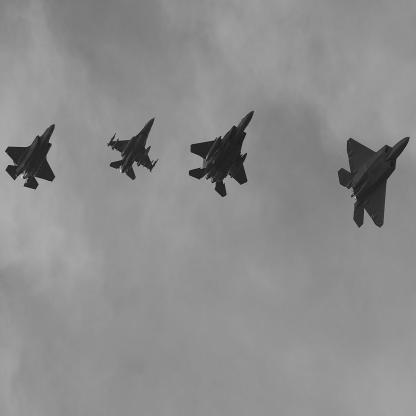F15: (189, 111, 255, 198)
F16: (108, 116, 160, 181)
F22: (338, 137, 411, 229)
F35: (6, 125, 57, 191)
